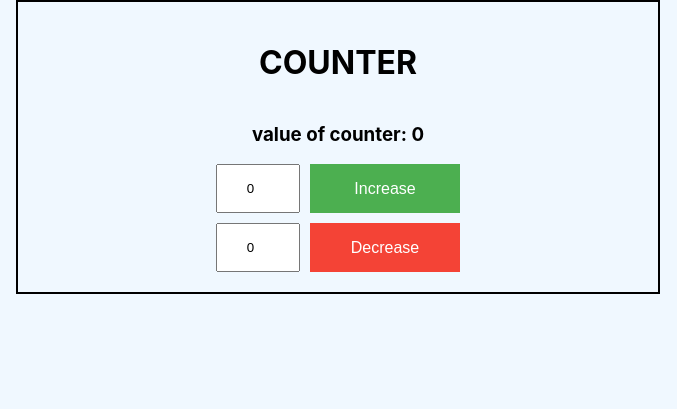
it: Testing my counter appp › Increase Counter › should increase counter multiple times
The width and height of the screenshot is (677, 409).
Type "10" into the number field with test id "value_inc" at (258, 189), box [216, 164, 300, 213]
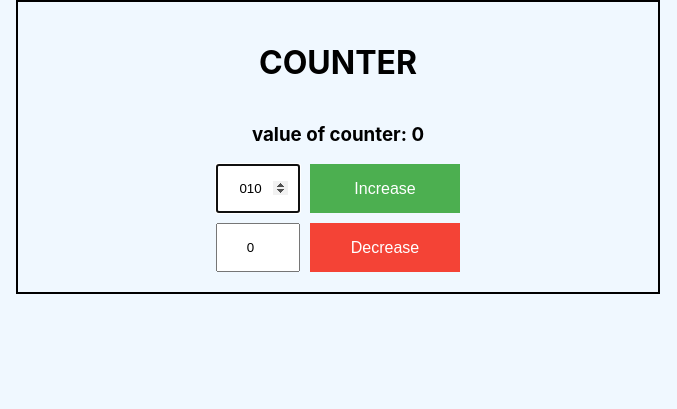
Click the button with test id "button_inc" at (385, 189), box [310, 164, 460, 213]
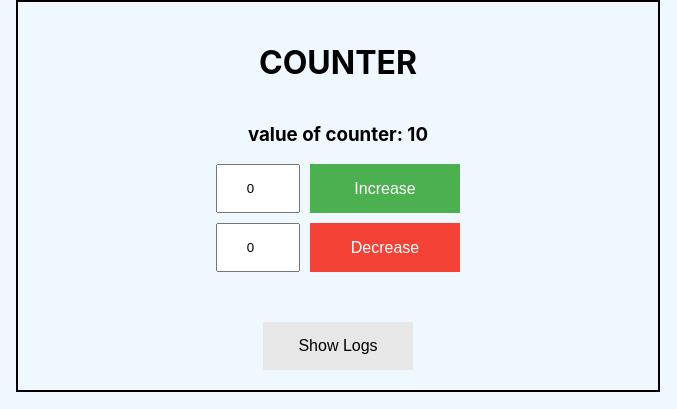
Now the heading with test id "counter-value" reads "value of counter: 10", box [248, 123, 428, 146]
Type "25" into the number field with test id "value_inc" at (258, 189), box [216, 164, 300, 213]
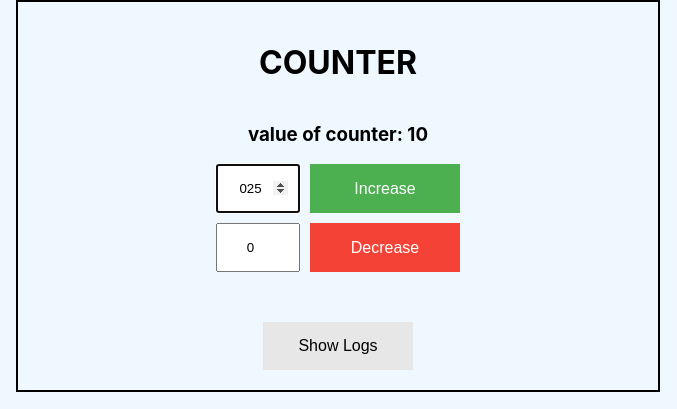
Click the button with test id "button_inc" at (385, 189), box [310, 164, 460, 213]
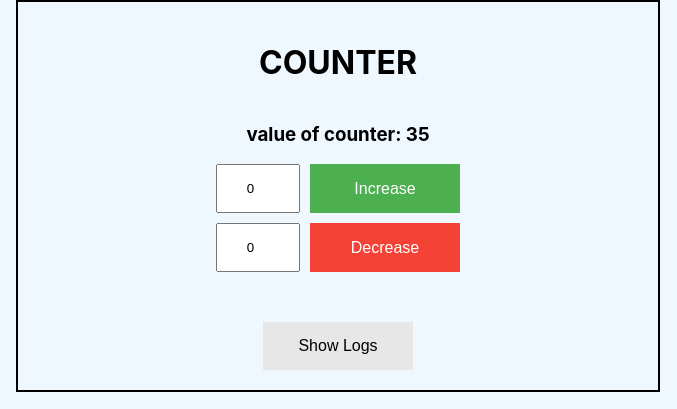
Now the heading with test id "counter-value" reads "value of counter: 35", box [246, 123, 429, 146]
